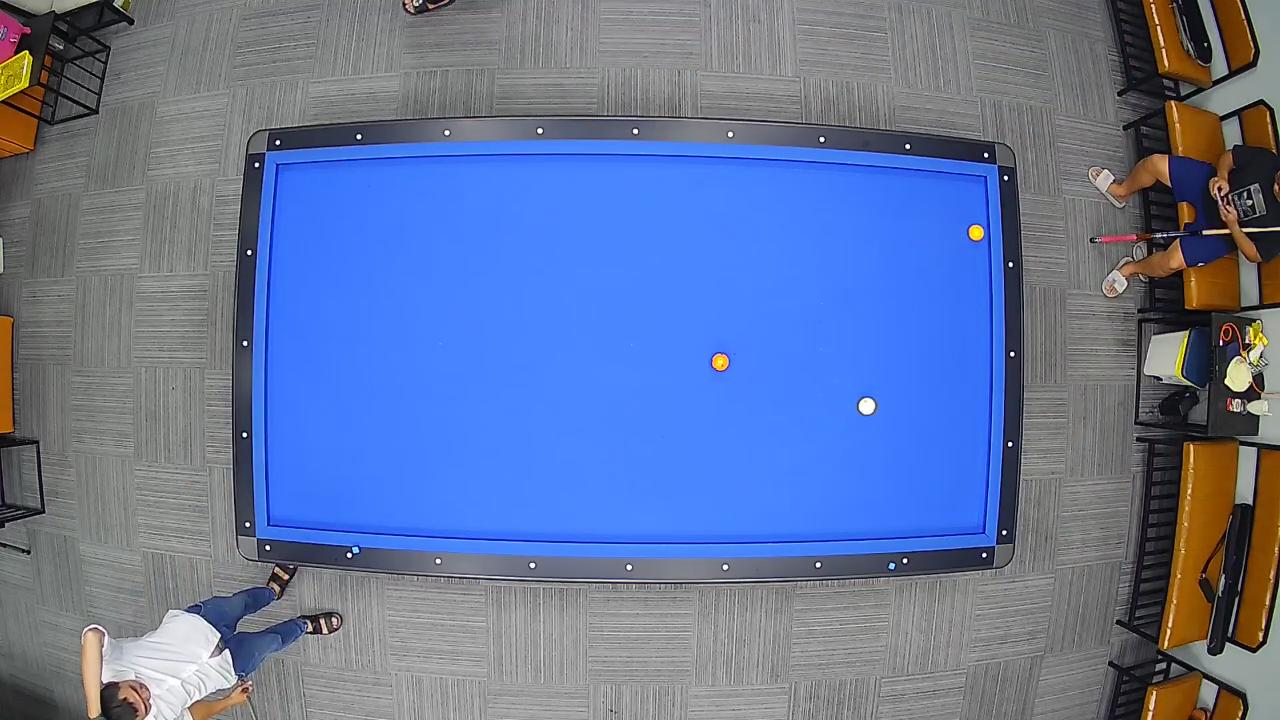Orange: (710, 350, 731, 374)
White: (857, 396, 877, 417)
Yellow: (966, 222, 986, 244)
